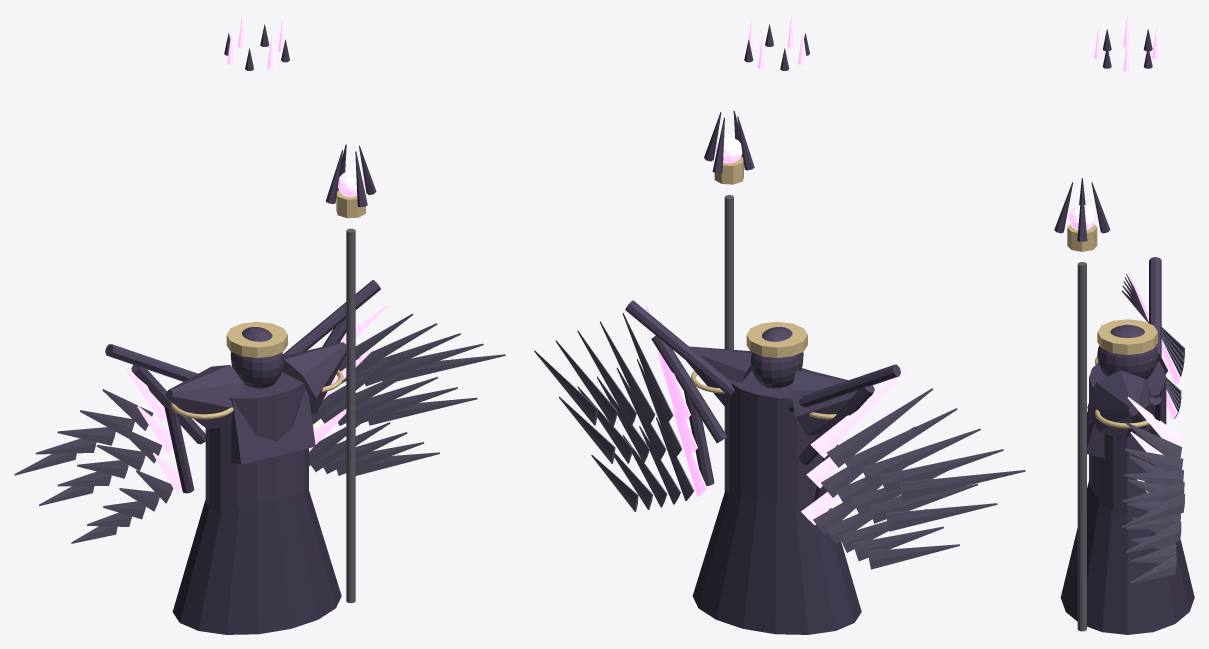
File: semjaza.glb
3 renders of one model, left to right at view 1: azimuth 30°, elevation 25°; view 2: azimuth 150°, elevation 25°; view 3: azimuth 270°, elevation 25°, orthographic.
Parts seen in each view (by area): view 1: Mantle, Spine, Staff, Pauldron_L, Cuirass_Plates, Crown, Pauldron_R, Head, WingBone_R1, WingBone_L1, WingBone_L3, WingBone_L2 (+10 smaller); view 2: Mantle, Spine, Staff, Crown, Pauldron_L, Head, WingBone_R1, Pauldron_R, WingBone_R2, WingBone_L1, Feather_L1_5, Feather_L1_1 (+19 smaller); view 3: Mantle, Staff, Spine, Pauldron_R, Crown, Head, WingBone_L1, Feather_R1_5, Feather_R1_4, Feather_R1_3, Feather_R1_2, Feather_R2_5 (+16 smaller).
Part boxes in pixels (x1,y1,x2,y2): Mantle: [172, 489, 341, 634]; Spine: [205, 372, 308, 511]; Staff: [326, 144, 376, 602]; Pauldron_L: [166, 365, 243, 429]; Cuirass_Plates: [231, 388, 315, 464]; Crown: [224, 14, 289, 357]; Pauldron_R: [282, 342, 346, 413]; Head: [230, 327, 283, 388]; WingBone_R1: [283, 280, 380, 356]; WingBone_L1: [105, 344, 197, 381]; WingBone_L3: [164, 407, 194, 493]; WingBone_L2: [131, 365, 205, 444]; Mantle: [692, 489, 861, 634]; Spine: [725, 368, 822, 509]; Staff: [704, 110, 754, 491]; Crown: [744, 14, 809, 357]; Pauldron_L: [790, 370, 872, 435]; Head: [750, 327, 803, 388]; WingBone_R1: [625, 300, 734, 397]; Pauldron_R: [686, 346, 751, 408]; WingBone_R2: [651, 336, 727, 442]; WingBone_L1: [787, 364, 900, 412]; Feather_L1_5: [899, 470, 1025, 500]; Feather_L1_1: [826, 388, 933, 467]; Mantle: [1060, 480, 1194, 634]; Staff: [1054, 178, 1110, 631]; Spine: [1089, 363, 1166, 514]; Pauldron_R: [1087, 370, 1149, 438]; Crown: [1094, 14, 1160, 354]; Head: [1097, 324, 1158, 379]; WingBone_L1: [1149, 257, 1161, 366]; Feather_R1_5: [1122, 493, 1184, 527]; Feather_R1_4: [1122, 481, 1184, 502]; Feather_R1_3: [1123, 470, 1183, 486]; Feather_R1_2: [1124, 448, 1183, 471]; Feather_R2_5: [1125, 521, 1181, 552].
Size of the model in its own units: 22.19 by 25 by 5.58.
